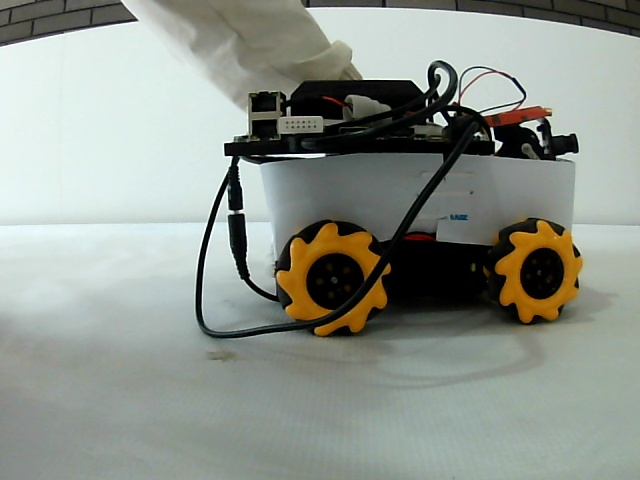car: (221, 78, 588, 326)
paper: (262, 160, 571, 221)
